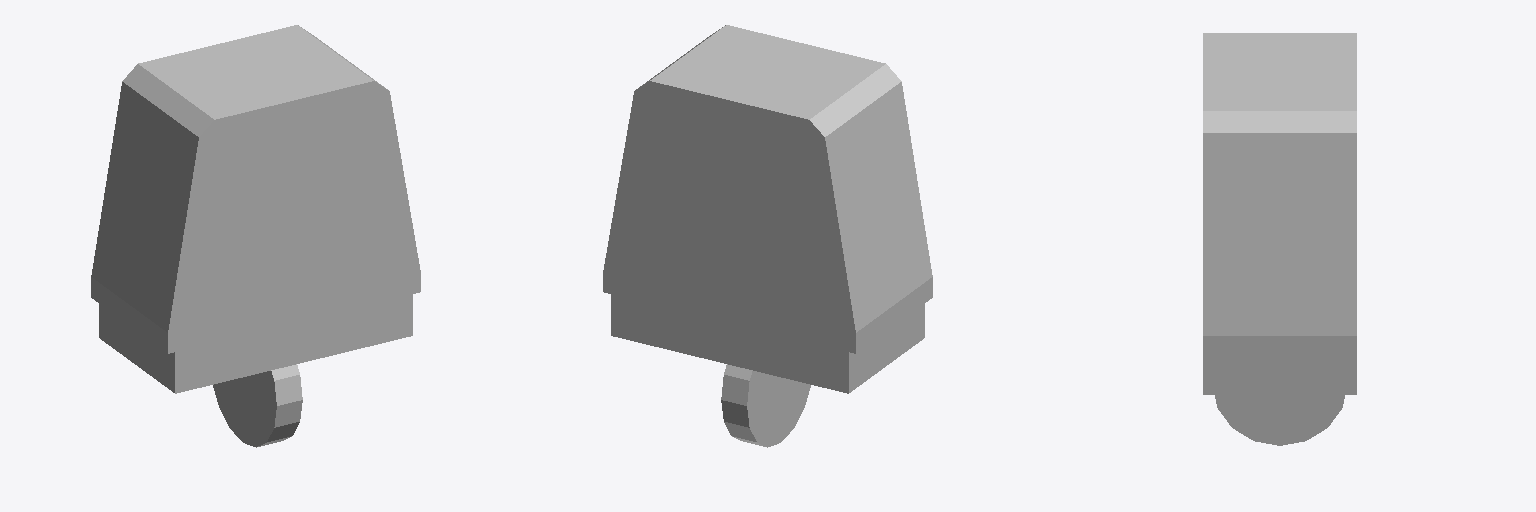
Rendered from Cuerpo.obj.
3 renders of one model, left to right at view 1: azimuth 30°, elevation 25°; view 2: azimuth 150°, elevation 25°; view 3: azimuth 270°, elevation 25°, orthographic.
Visible parts, largest first — view 1: Cuerpo1:pasted__pasted__body1 group; view 2: Cuerpo1:pasted__pasted__body1 group; view 3: Cuerpo1:pasted__pasted__body1 group.
Part boxes in pixels (bbox=[...]): Cuerpo1:pasted__pasted__body1 group: bbox=[91, 25, 420, 447]; Cuerpo1:pasted__pasted__body1 group: bbox=[603, 25, 932, 447]; Cuerpo1:pasted__pasted__body1 group: bbox=[1203, 33, 1356, 445].
Bounding box in the file's own units: 2.32 × 3.23 × 1.22.